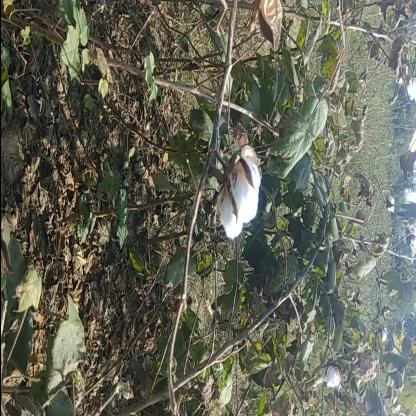cotton_ready: (199, 139, 265, 251)
